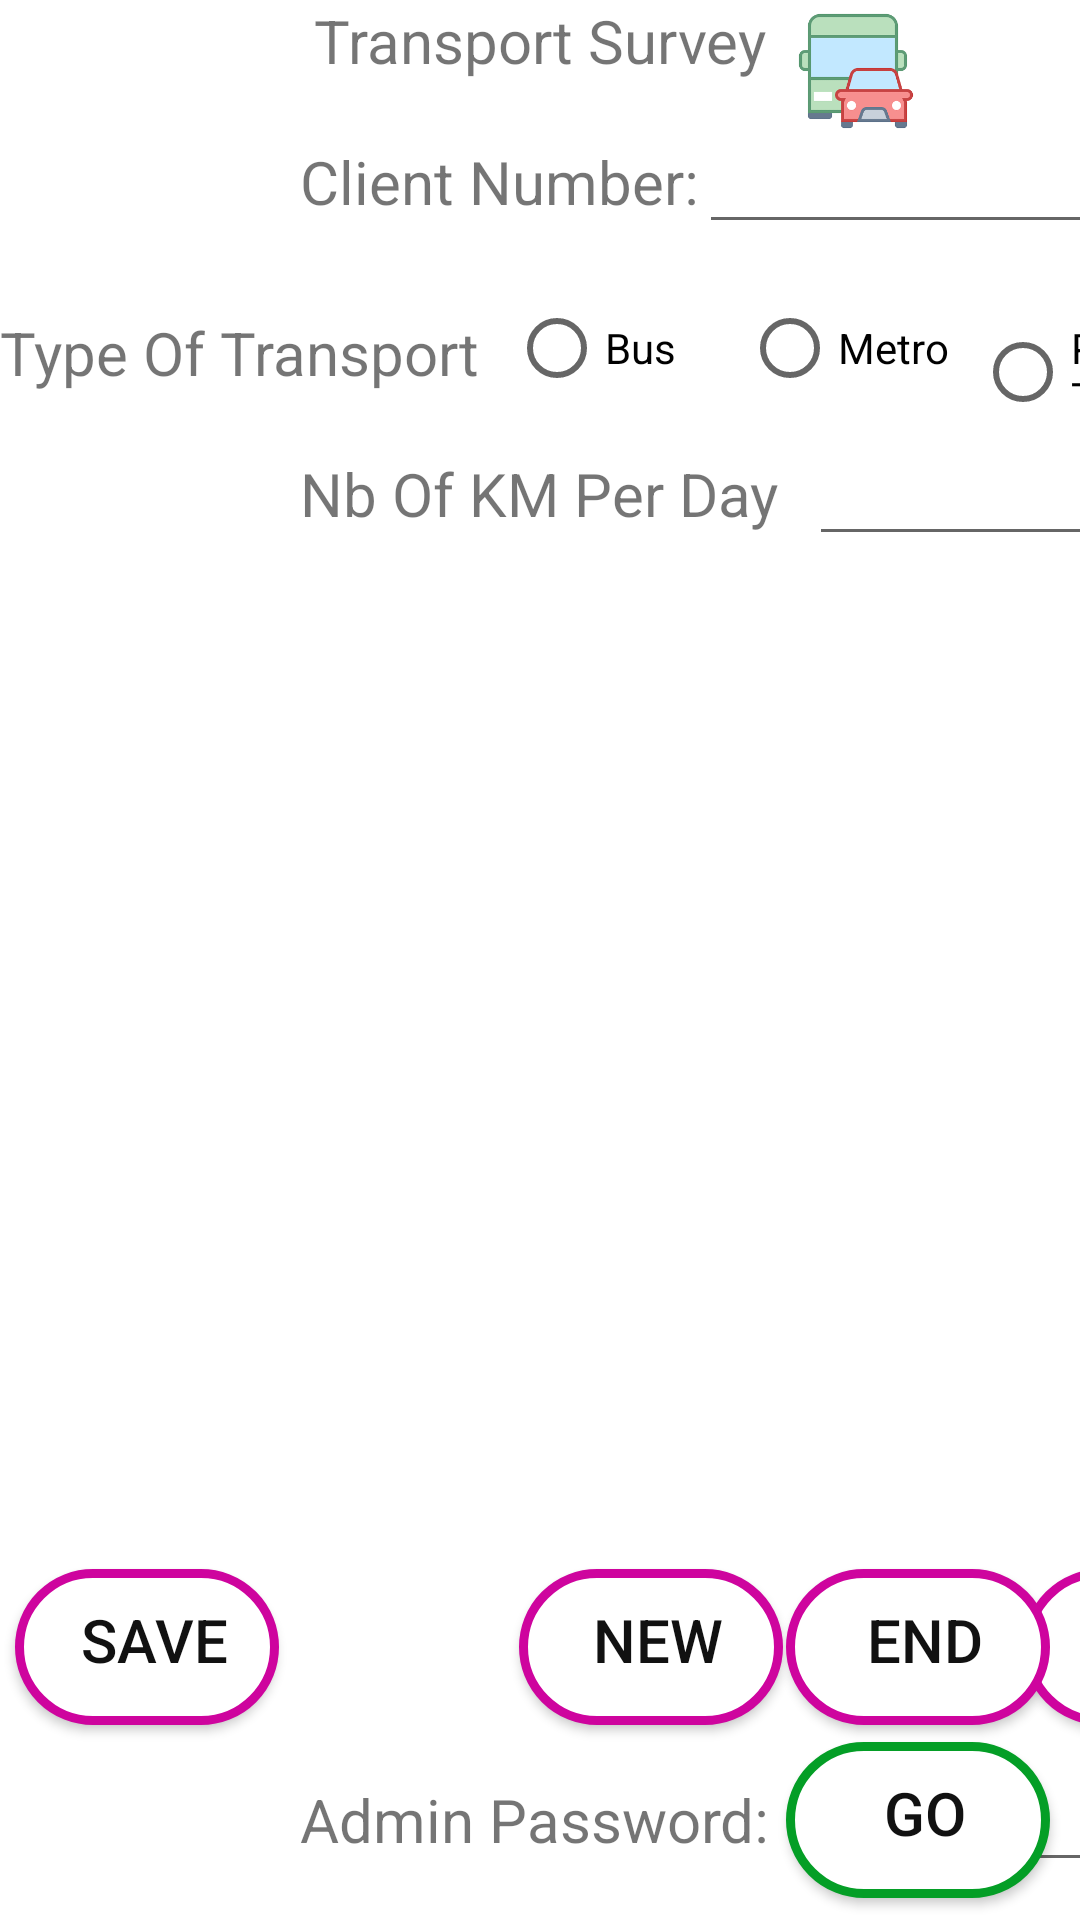

Where icons sit on this 1080w x 1920h app screen, as (x1,y1,x2,y2):
transportation: (799,14,913,128)
